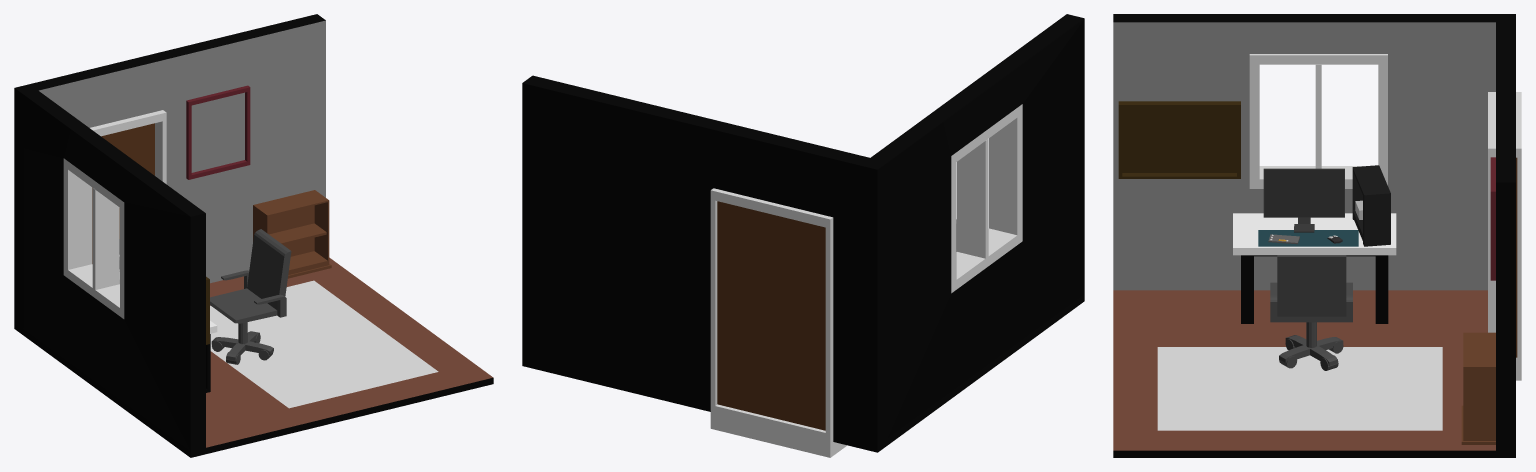
File: portfolio.glb
The picture shows the model from 3 angles, left to right: view 1: azimuth 30°, elevation 25°; view 2: azimuth 150°, elevation 25°; view 3: azimuth 270°, elevation 25°; orthographic projection. The views are drawn at different scales.
Visible parts, largest first — view 1: Cube.012, Plane.002, Cylinder, Cube.010, Cube, Cube.013; view 2: Cube.012, Cube.013; view 3: Cube.012, Plane.002, Cube.011, Cylinder, Cube.001, Cube.002, Cube.010, Cube.003, Plane, Cube.
Boxes of the visible parts, x1,y1,x2,y2 form: Cube.012: [14, 14, 493, 457]; Plane.002: [210, 280, 438, 408]; Cylinder: [210, 229, 291, 364]; Cube.010: [253, 190, 331, 278]; Cube: [186, 85, 250, 179]; Cube.013: [92, 123, 154, 263]; Cube.012: [522, 14, 1084, 457]; Cube.013: [717, 201, 825, 430]; Cube.012: [1113, 14, 1521, 457]; Plane.002: [1157, 347, 1442, 430]; Cube.011: [1118, 101, 1240, 178]; Cylinder: [1270, 255, 1352, 370]; Cube.001: [1233, 213, 1396, 323]; Cube.002: [1263, 168, 1344, 232]; Cube.010: [1461, 332, 1495, 444]; Cube.003: [1352, 165, 1390, 246]; Plane: [1258, 230, 1358, 246]; Cube: [1490, 157, 1495, 280].
Size of the model in its own units: 10 by 7.81 by 10.
